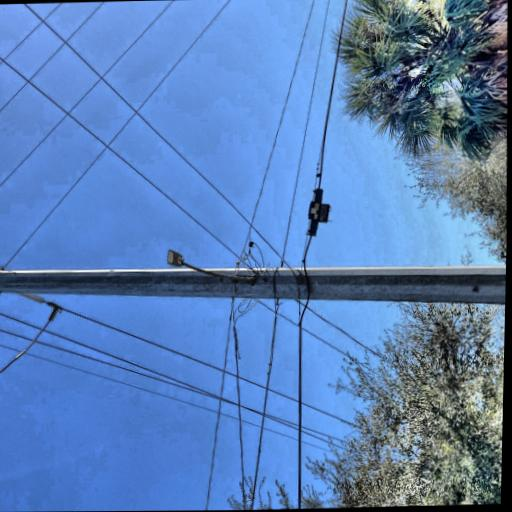pole: (42, 1, 130, 512)
street light: (89, 309, 131, 416)
